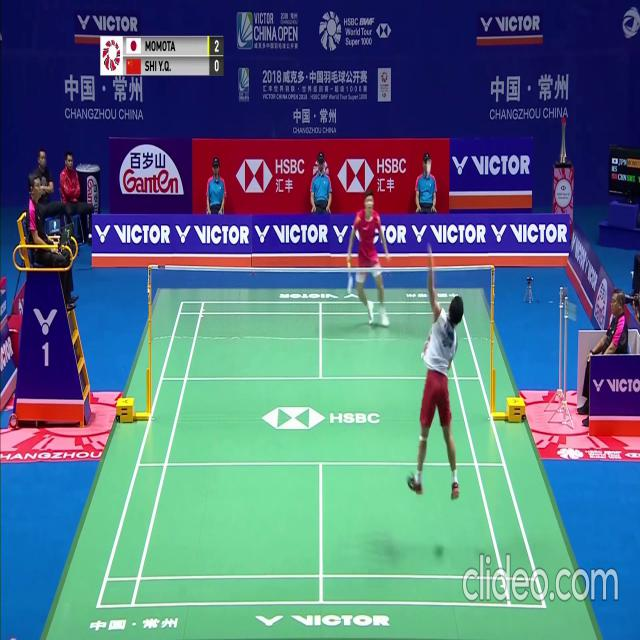Shuttlecock: (426, 168, 431, 176)
